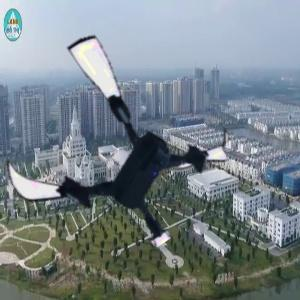drone: (4, 37, 223, 256)
